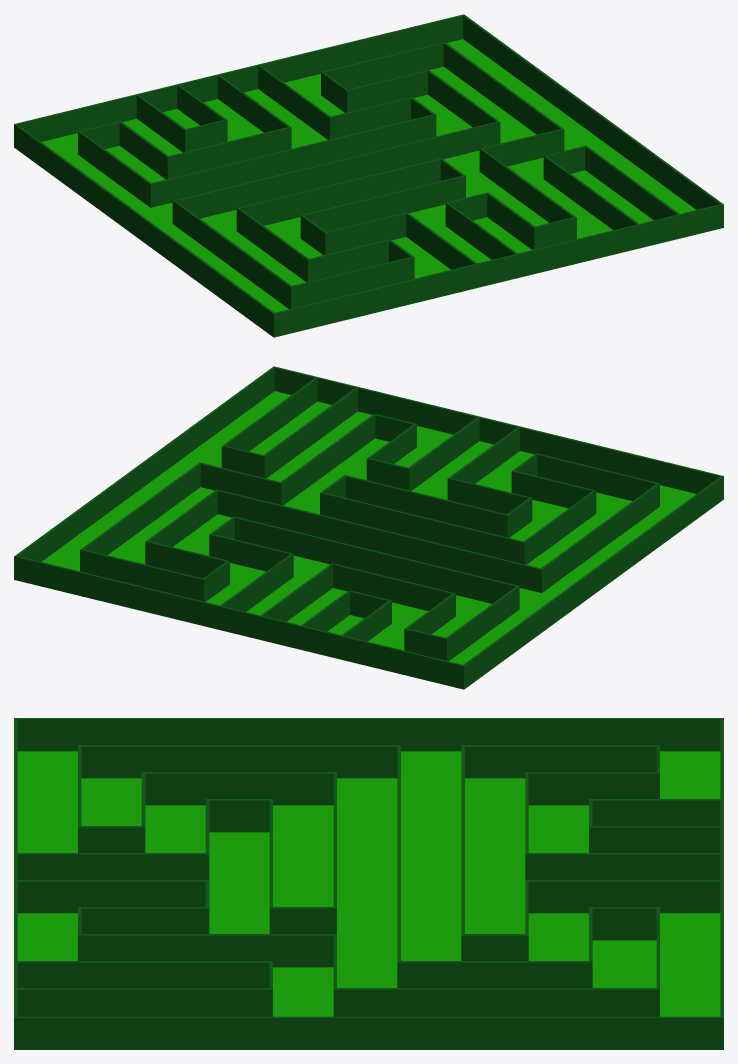
Rendered from maze_1.1.fbx.
The picture shows the model from 3 angles, top to bottom: view 1: azimuth 30°, elevation 25°; view 2: azimuth 150°, elevation 25°; view 3: azimuth 270°, elevation 25°; orthographic projection. The views are drawn at different scales.
Visible parts, largest first — view 1: Плоскость; view 2: Плоскость; view 3: Плоскость.
Part boxes in pixels (left/top/right/bottom): Плоскость: left=14, top=14, right=723, bottom=337; Плоскость: left=14, top=366, right=723, bottom=689; Плоскость: left=14, top=718, right=723, bottom=1049.
Size of the model in its own units: 10100 by 501 by 10100.
